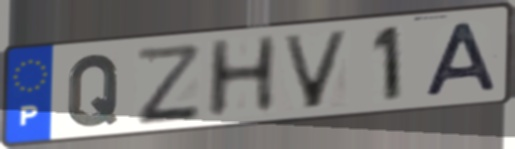1: (369, 23, 405, 106)
A: (422, 20, 502, 99)
H: (203, 33, 282, 123)
Q: (64, 51, 123, 130)
V: (279, 28, 354, 112)
Z: (132, 42, 204, 128)
